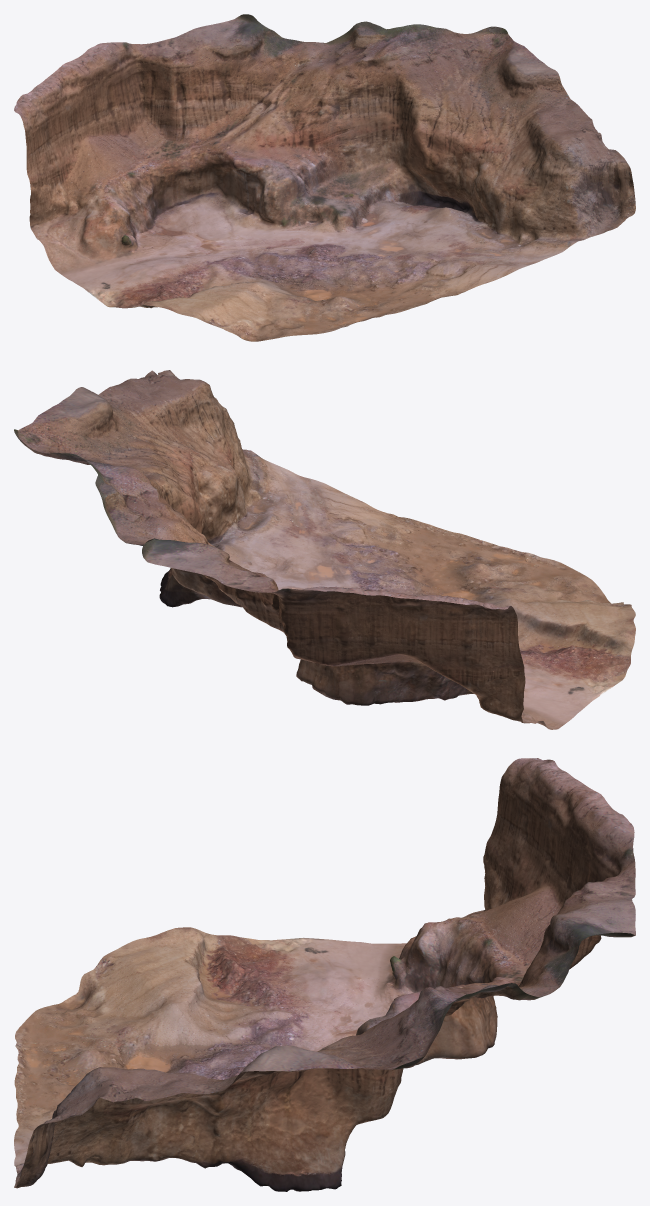
File: open_pit_mine.glb
The picture shows the model from 3 angles, top to bottom: view 1: azimuth 30°, elevation 25°; view 2: azimuth 150°, elevation 25°; view 3: azimuth 270°, elevation 25°; orthographic projection. The views are drawn at different scales.
Parts seen in each view (by area): view 1: OpenPitMine; view 2: OpenPitMine; view 3: OpenPitMine.
Boxes of the visible parts, x1,y1,x2,y2 form: OpenPitMine: (14,14,635,341); OpenPitMine: (14,370,635,729); OpenPitMine: (14,758,635,1191).
Bounding box in the file's own units: 114 × 36.21 × 95.03.
Materials: 1 (1 with a texture image).
